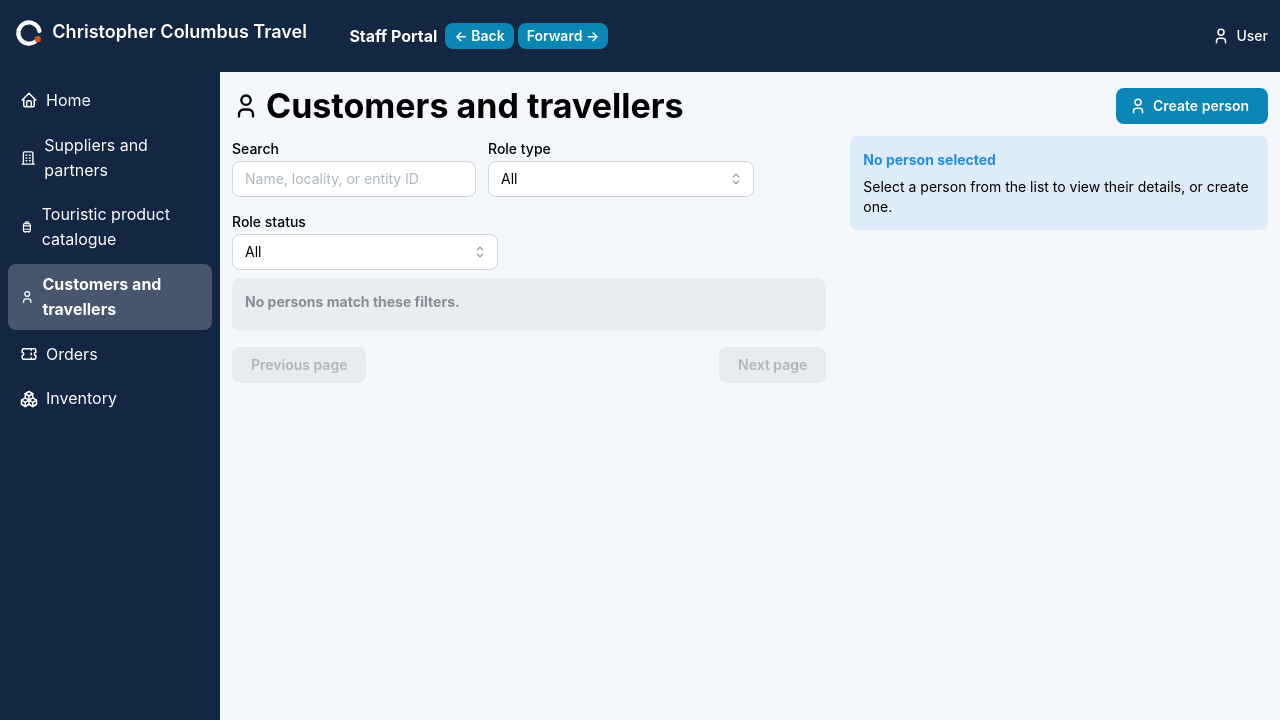
Test case: PersonsRoute (VIEW-S-002, issue #29 phase 2) › shows the create-person form inline in the right pane, and switches to the new person's detail on success
The width and height of the screenshot is (1280, 720).
Check: the text "No persons match these filters." is shown, box [245,291,460,312]
Click the button "Create person".
click(1192, 106)  # box [1116,88,1268,124]
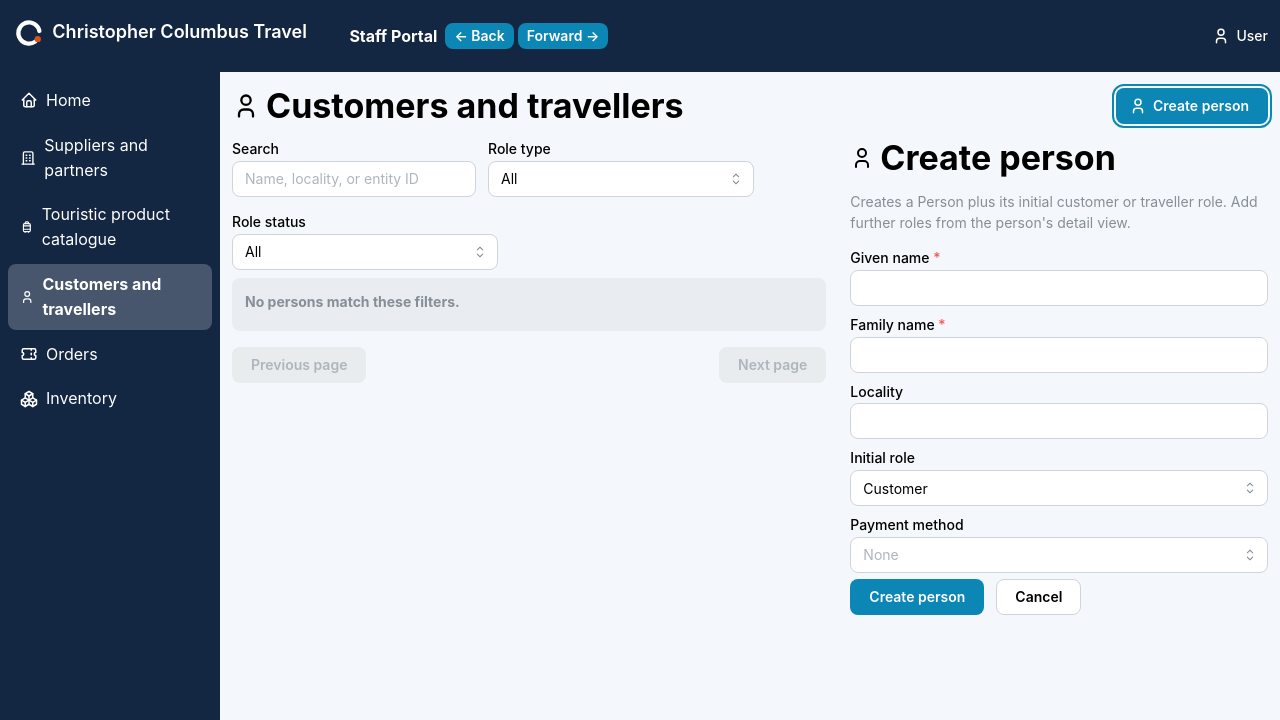
Check: the heading "Customers and travellers" is shown, box [266,84,684,128]
Check: the heading "Create person" is shown, box [880,136,1116,180]
Type "Casey" into the field labelled "Given name *".
click(1059, 288); type("Casey")  # box [850,270,1268,306]
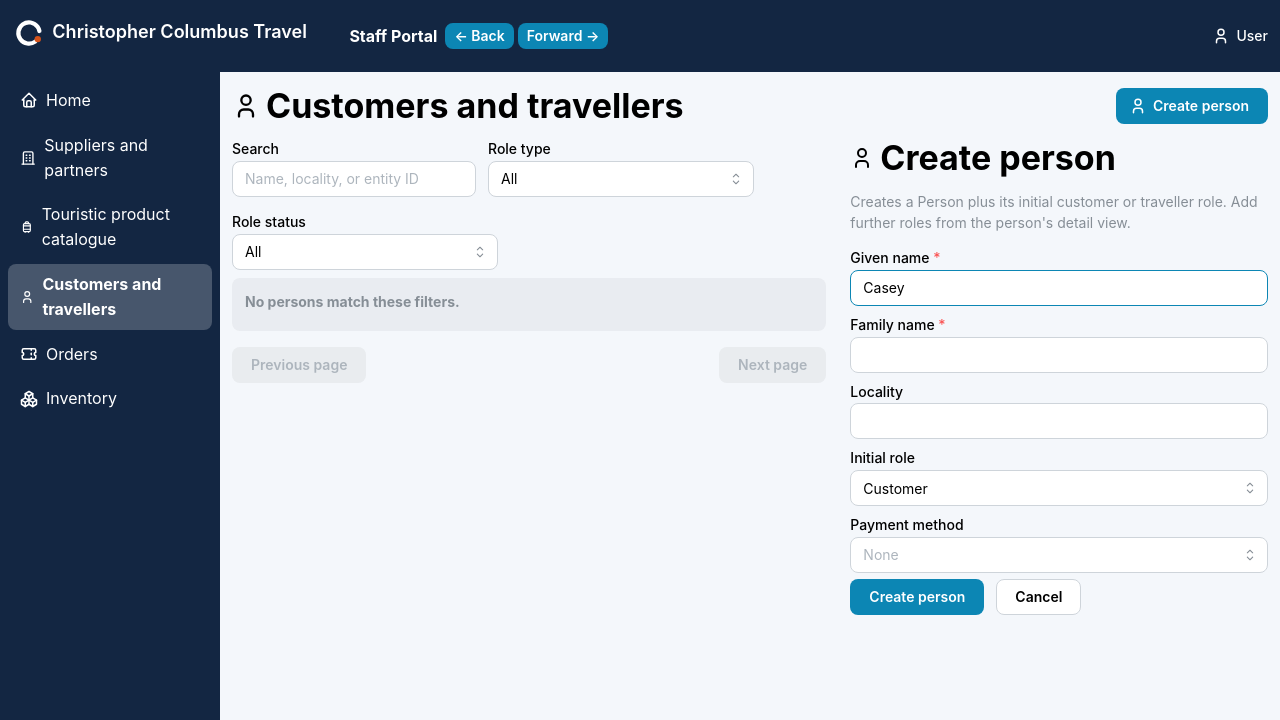
Type "Example" into the field labelled "Family name *".
click(1059, 355); type("Example")  # box [850,337,1268,373]
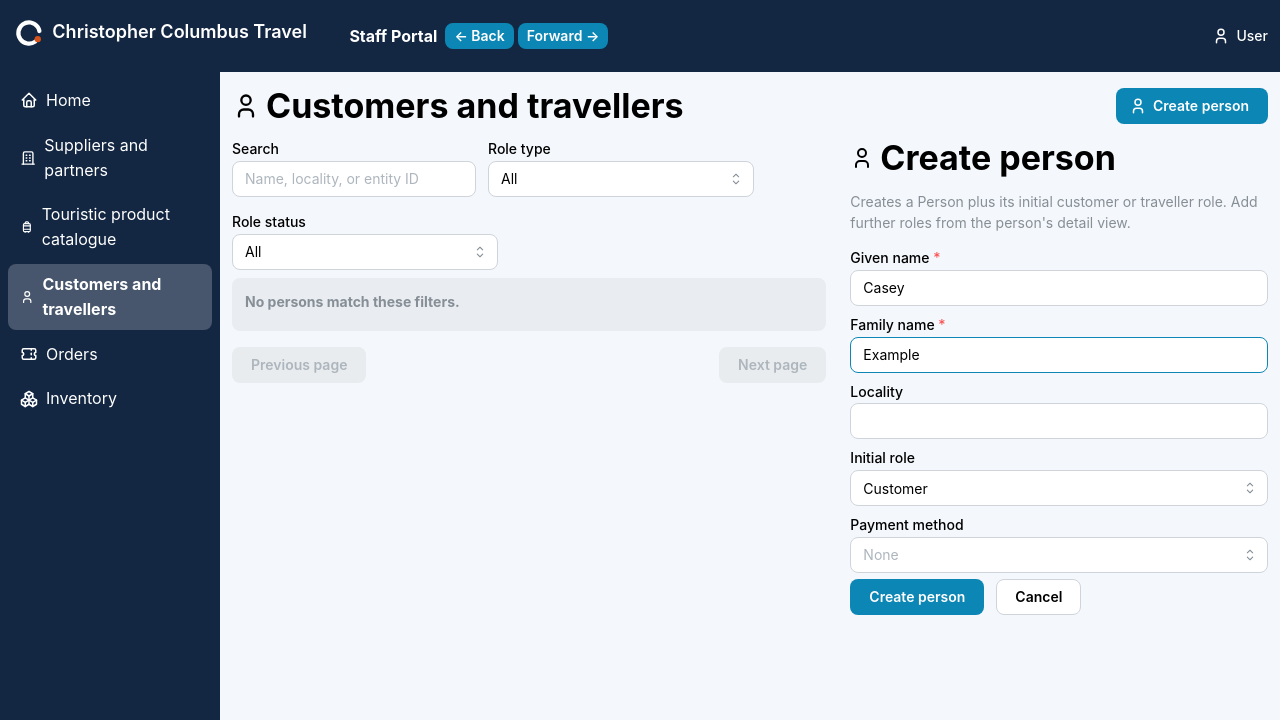
Click the button "Create person" below "Payment method".
click(917, 597)  # box [850,579,984,615]
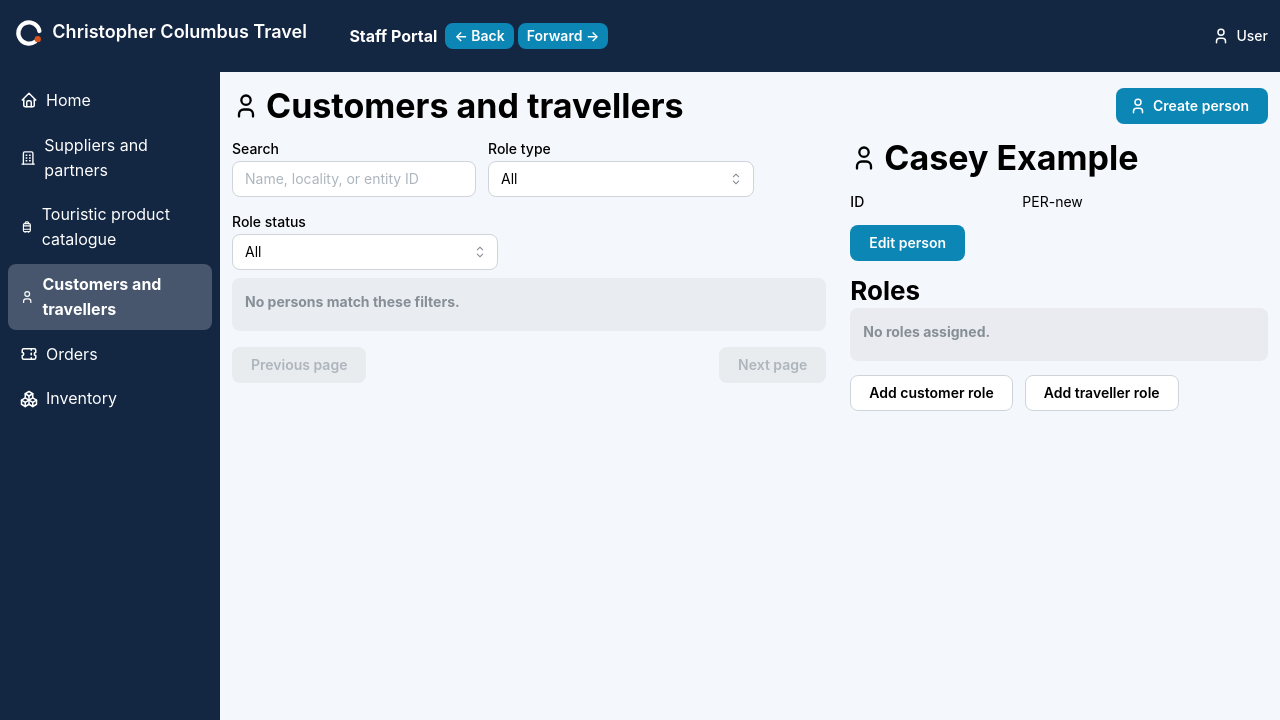
Check: the heading "Casey Example" is shown, box [884,136,1138,180]
